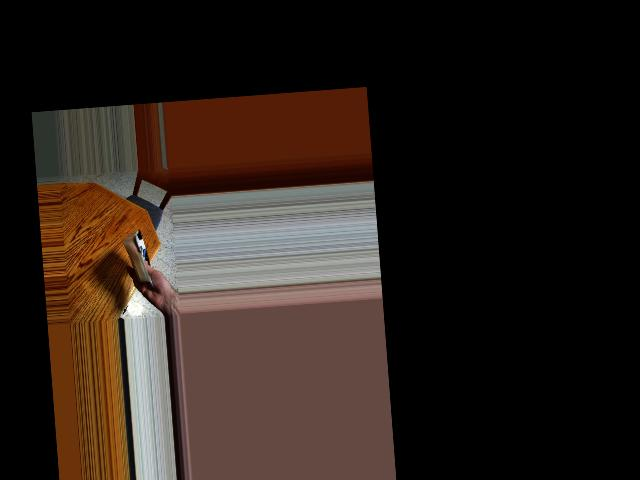cheese: (116, 230, 164, 284)
